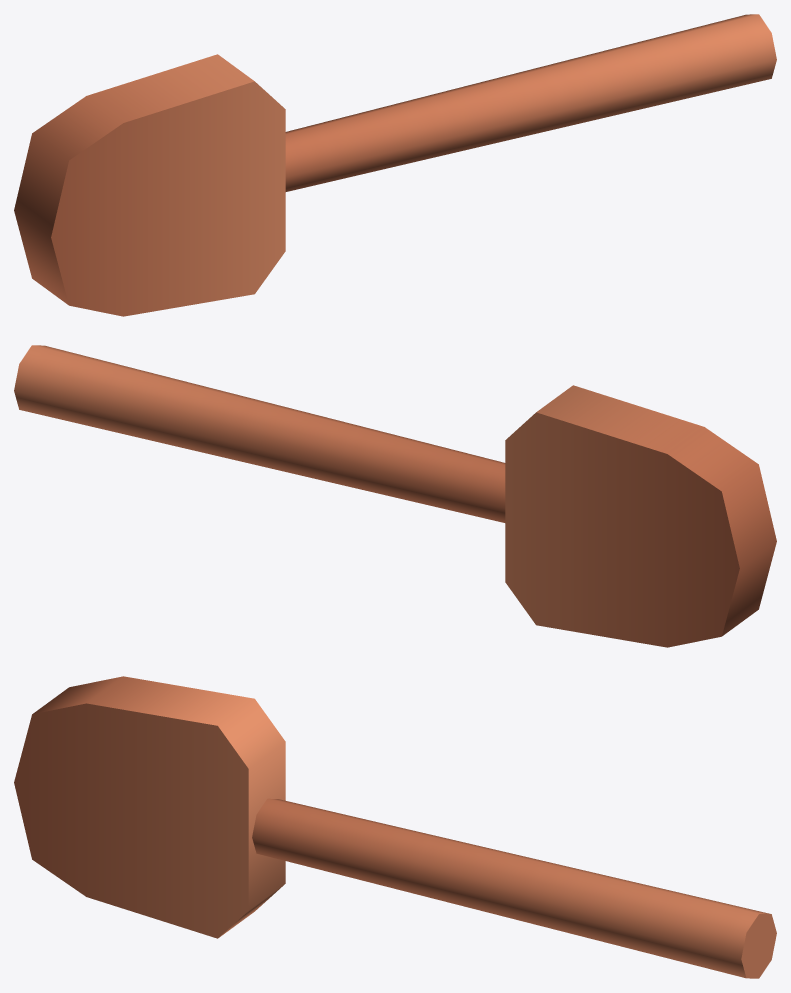
File: SM_Oar.obj
3 views of the same model, one above another, from view 1: azimuth 30°, elevation 25°; view 2: azimuth 150°, elevation 25°; view 3: azimuth 330°, elevation 25° (orthographic).
Visible parts, largest first — view 1: SM_Oar; view 2: SM_Oar; view 3: SM_Oar.
Part boxes in pixels (x1=…): SM_Oar: x1=14, y1=14, x2=776, y2=316; SM_Oar: x1=14, y1=345, x2=776, y2=647; SM_Oar: x1=14, y1=676, x2=776, y2=978.
Bounding box in the file's own units: 250 × 70.01 × 22.09.
1 material, 1 textured.
